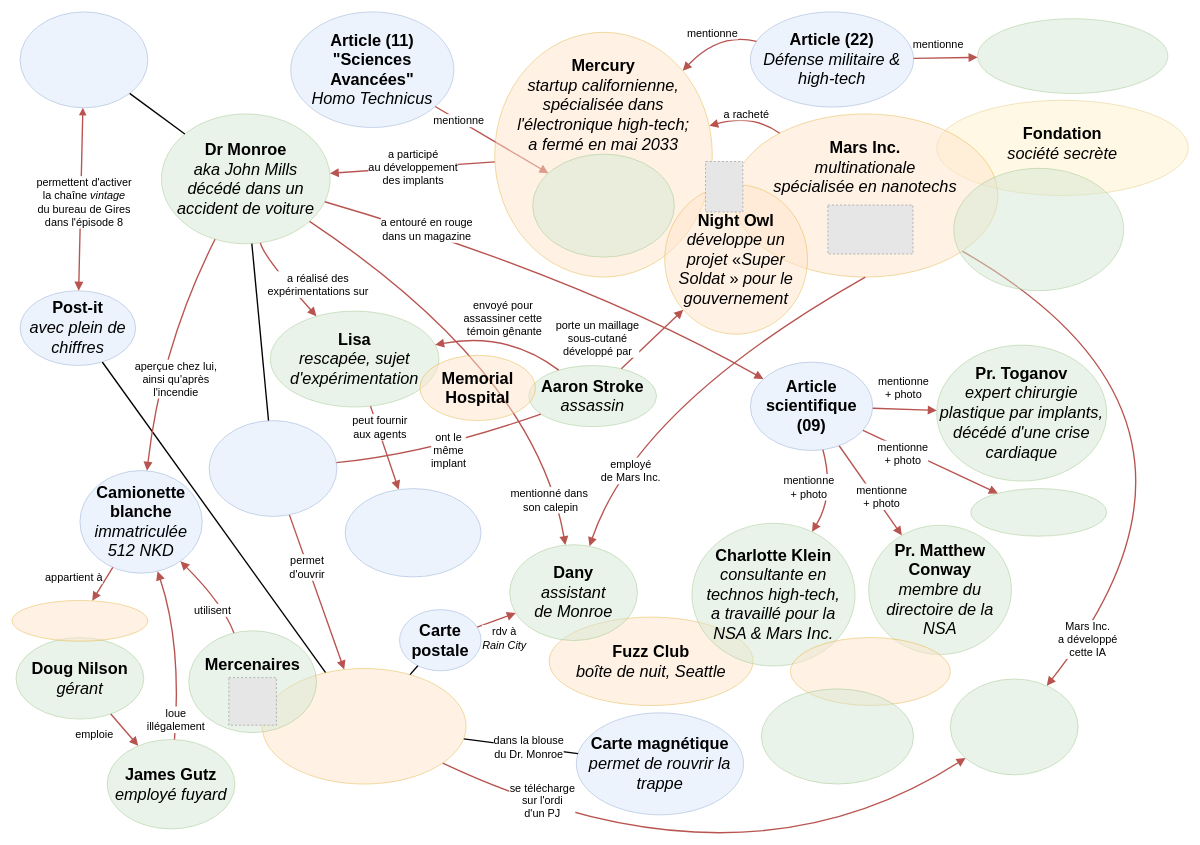
The diagram is 1200 pixels wide and 845 high, and some of its shapes have lost their labels. Grey dashed boxes stand in for pictures. Each missing label, with the centre of its shape:
Agent Wagner suit l'enquête des PJs: point 837,736
Base Secrète sous la ferme: point 363,726
Caseys' Cars: point 79,620
Charles Stone secrétaire d'État à la Défense: point 1072,56
Dr. Hillary: point 1038,512
Implant au poignet de Monroe: point 272,468
La cassette du dictaphone de Monroe: point 83,59
Mark Ford PDG & ingénieur "suicidé": point 603,205
NSA: point 870,671
O.M.N.I IA: point 1014,726
Portrait robot d'un "ami" de Monroe: point 412,532
Samuel de Gires PDG mégalo, passionné par l'Antiquité: point 1038,229
